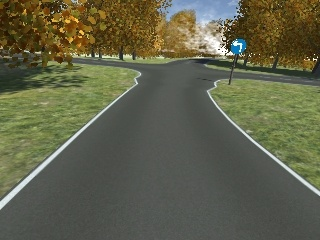TLeft: (229, 38, 246, 55)
